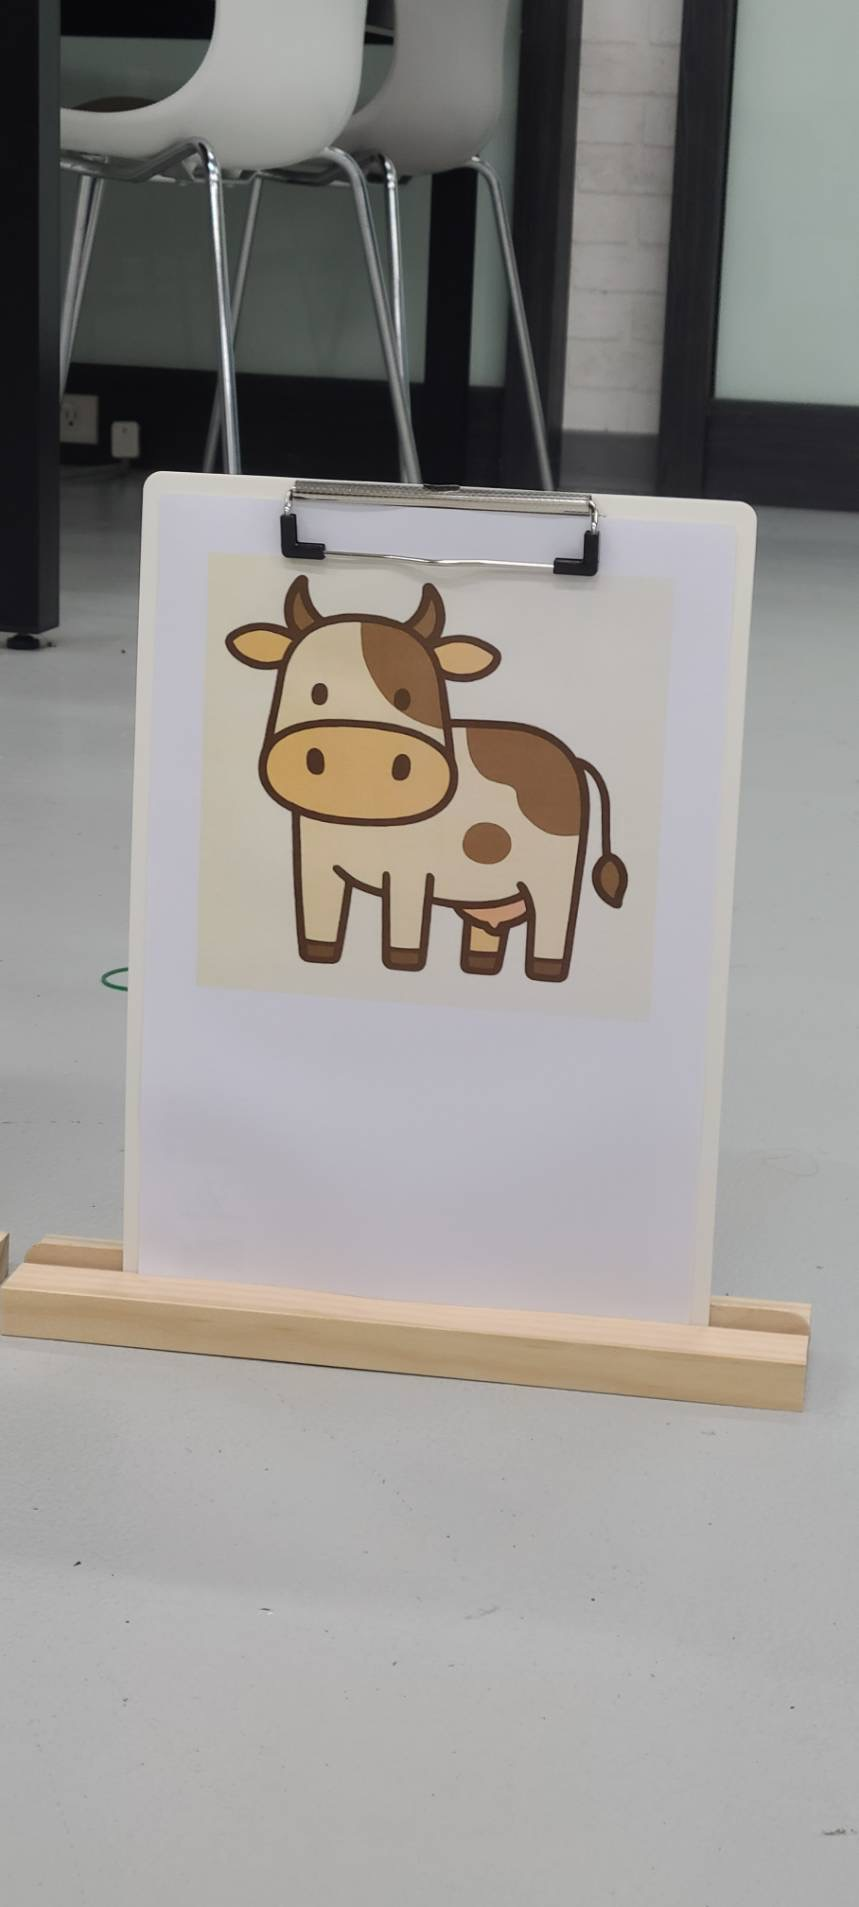cow: (228, 569, 622, 998)
